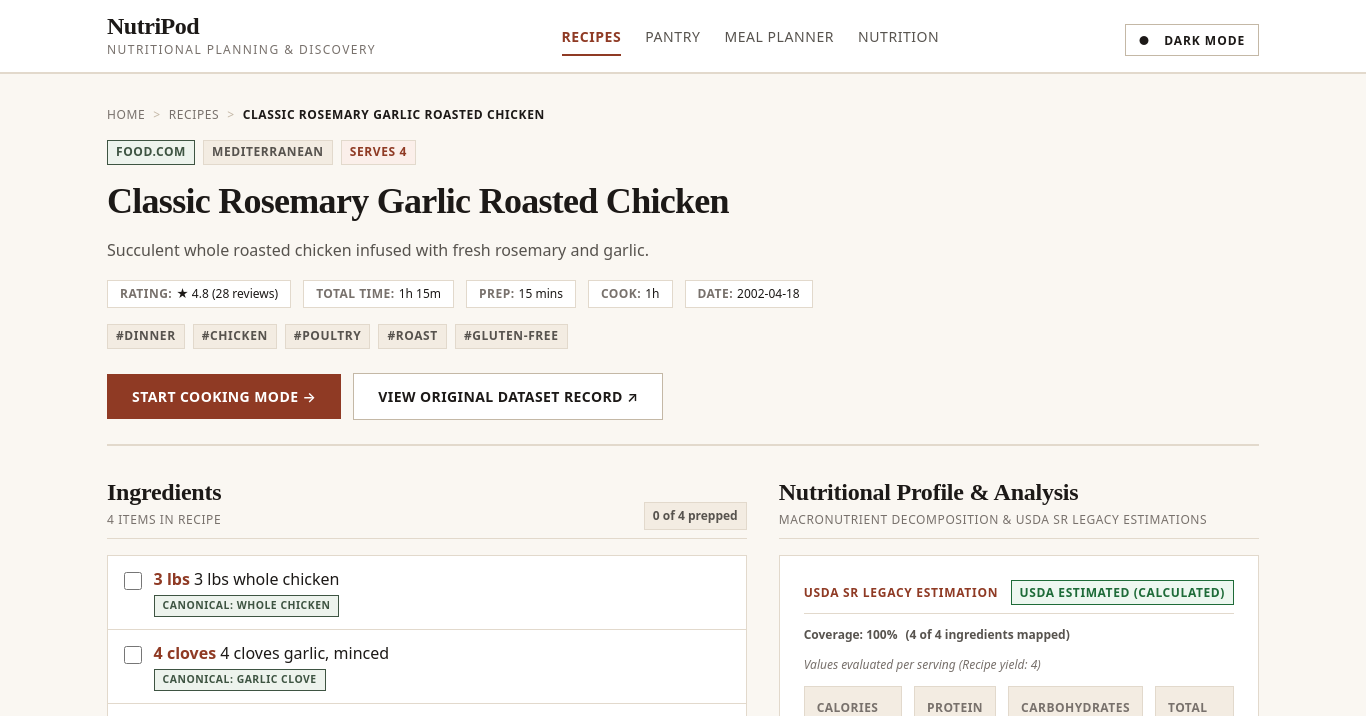
it: Recipe Details, Ingredients, Instructions & Cooking Mode (Step 05.3) › 20. first/last step boundaries
What coordinates should you click on to do the following:
click the button with test id "enter-cooking-mode-btn"
I would click on:
 (224, 396)
Its box is [107,374,341,418].
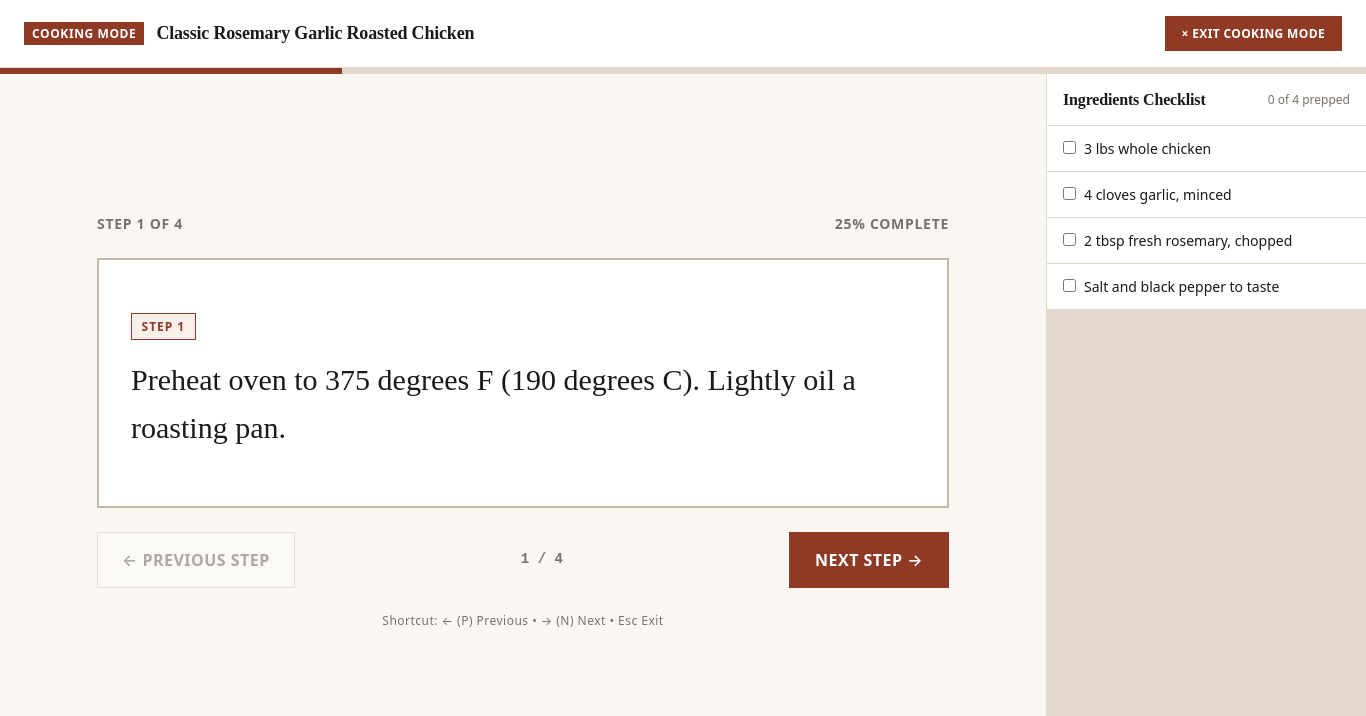
Result: the button with test id "cooking-prev-btn" is disabled at [97,532,295,588]
Result: the button with test id "cooking-next-btn" is enabled
// Advance to Step 4 (last step)
What coordinates should you click on to do the following:
click the button with test id "cooking-next-btn"
I would click on:
 (869, 560)
Its box is [789,532,949,588].
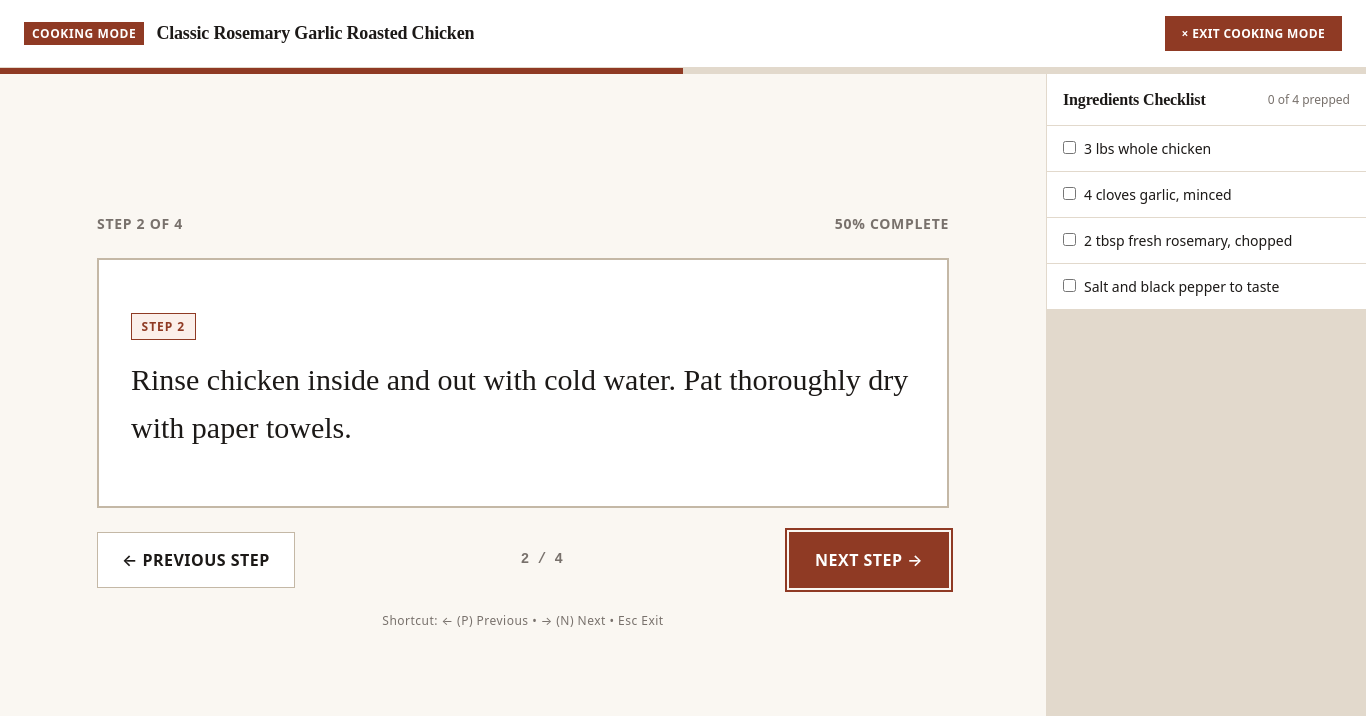
What coordinates should you click on to do the following:
click the button with test id "cooking-next-btn"
I would click on:
 (869, 560)
Its box is [789,532,949,588].
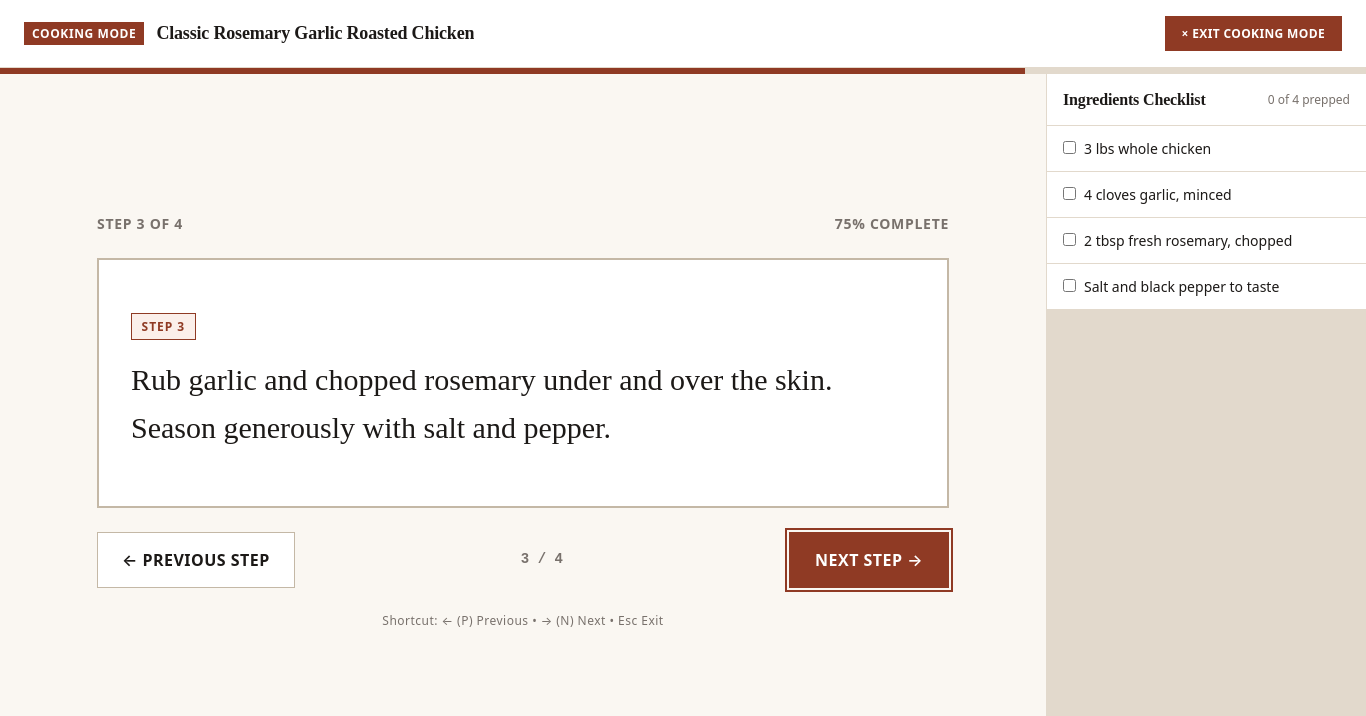
What coordinates should you click on to do the following:
click the button with test id "cooking-next-btn"
I would click on:
 (869, 560)
Its box is [789,532,949,588].
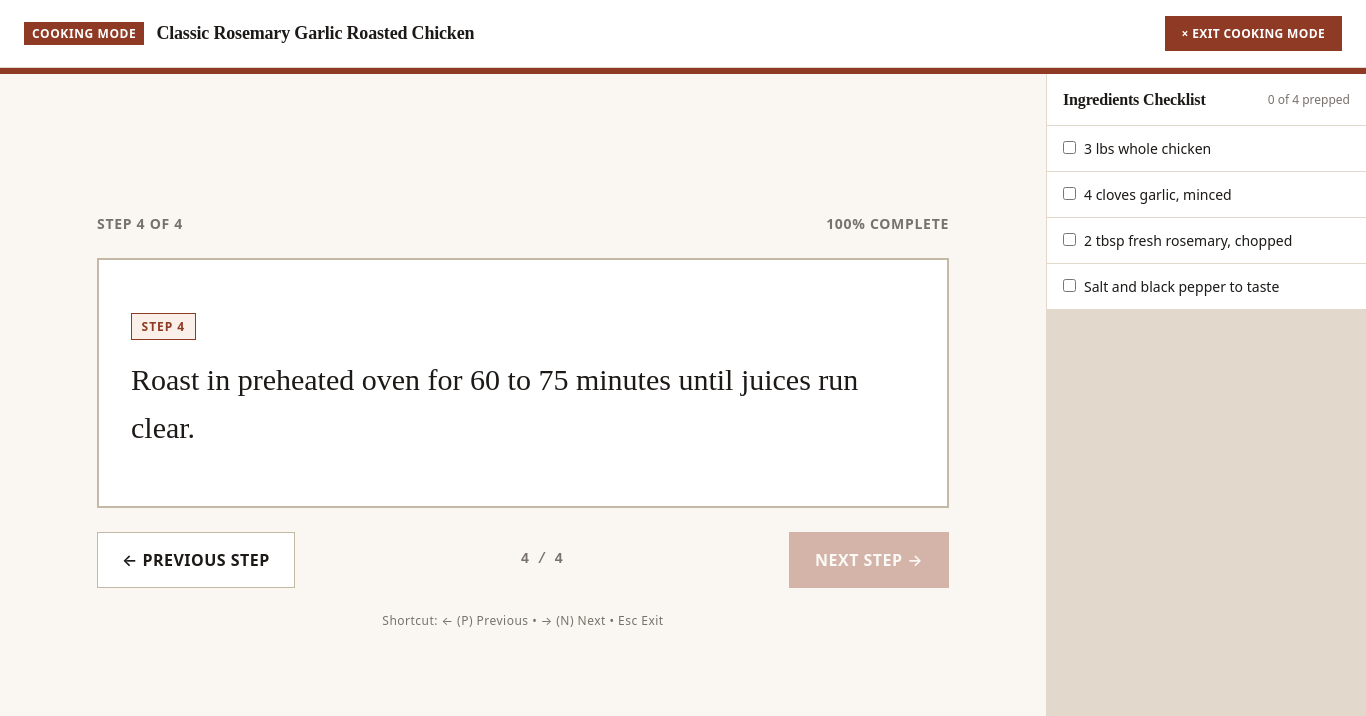
Result: the button with test id "cooking-prev-btn" is enabled at [97,532,295,588]
Result: the element with test id "step-counter" shows "Step 4 of 4" at [97,212,949,234]
Result: the button with test id "cooking-next-btn" is disabled at [789,532,949,588]
